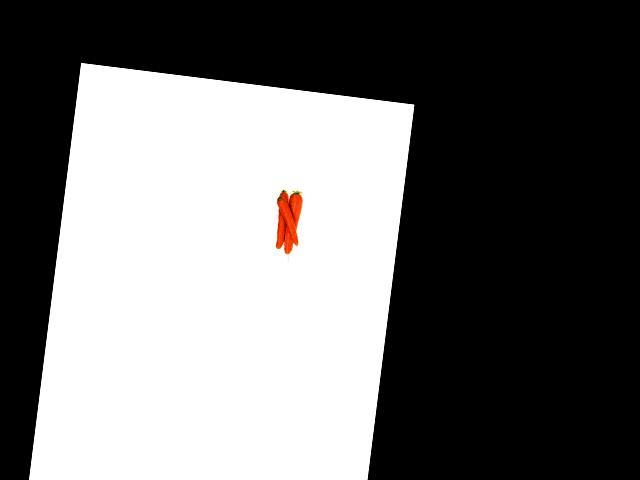carrot: (271, 185, 292, 251)
